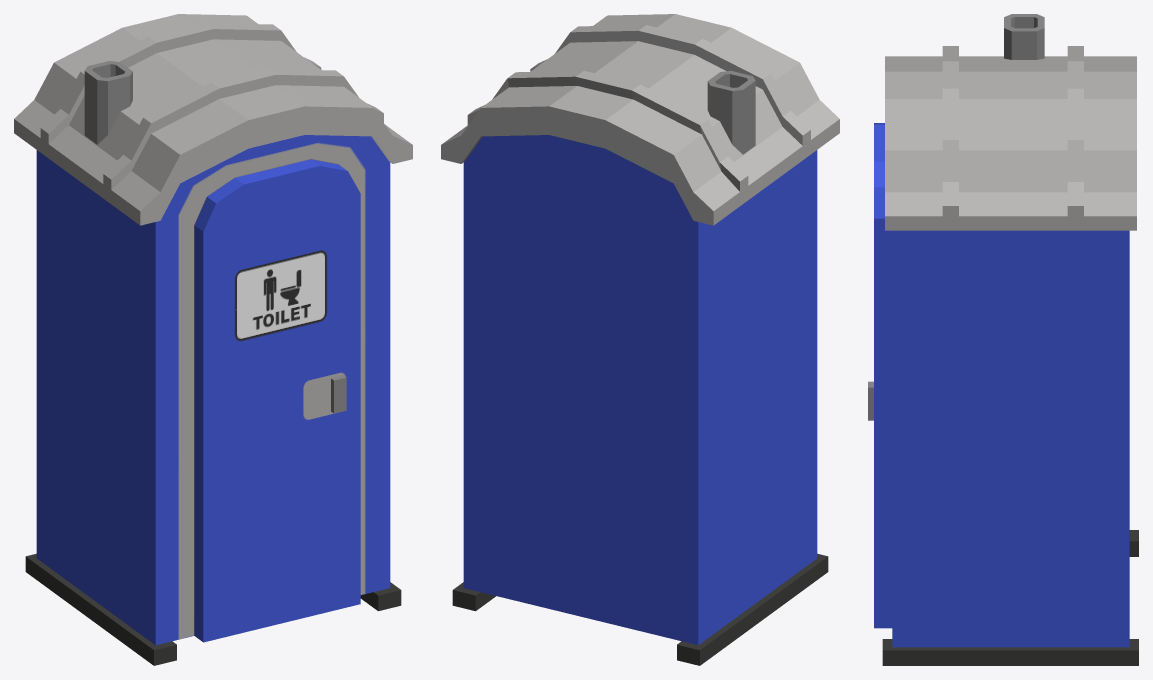
Rendered from ToiletStall_Closed.fbx.
The picture shows the model from 3 angles, left to right: view 1: azimuth 30°, elevation 25°; view 2: azimuth 150°, elevation 25°; view 3: azimuth 270°, elevation 25°; orthographic projection.
Visible parts, largest first — view 1: ToiletStall_Closed; view 2: ToiletStall_Closed; view 3: ToiletStall_Closed.
Boxes of the visible parts, <box> form: ToiletStall_Closed: <box>14,14,412,665</box>; ToiletStall_Closed: <box>441,14,839,665</box>; ToiletStall_Closed: <box>868,14,1138,665</box>.
Bounding box in the file's own units: 428 × 805 × 369.
